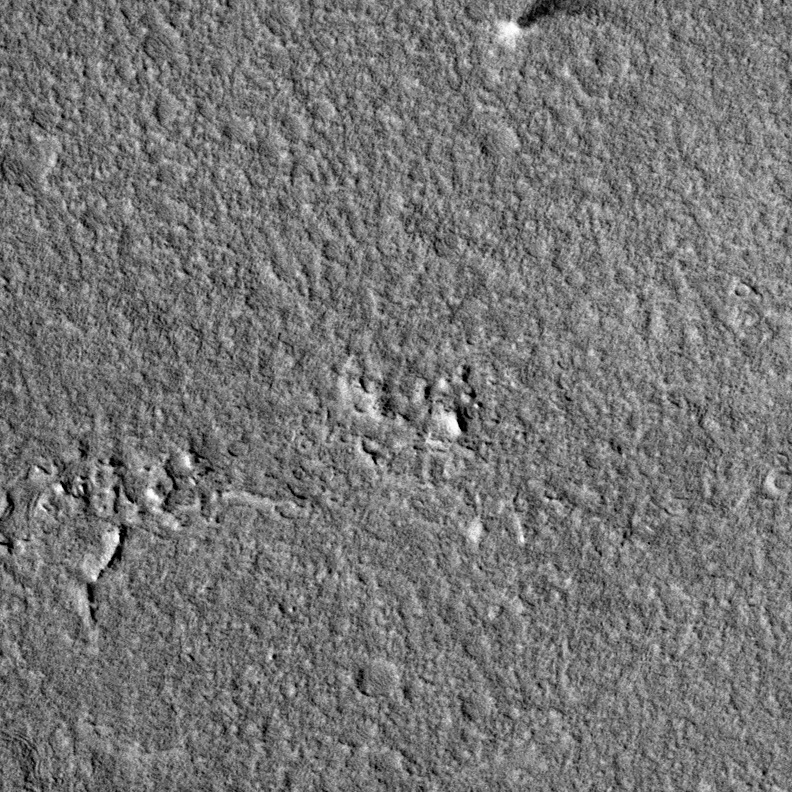dust_devil: (495, 1, 605, 51)
